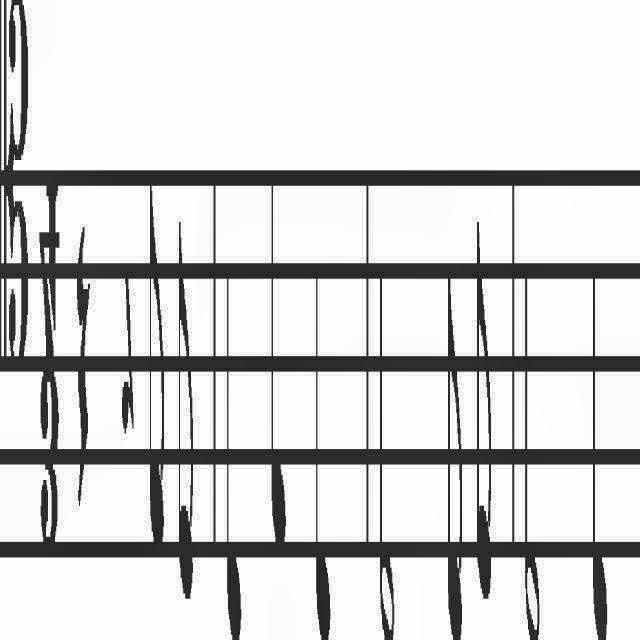Eighth-note: (142, 128, 168, 596), (471, 222, 497, 640), (174, 181, 196, 624), (441, 279, 466, 640)
Eighth-rest: (115, 231, 136, 485)
Half-note: (520, 222, 544, 640), (375, 248, 397, 640)
Quarter-note: (588, 227, 611, 640), (268, 179, 290, 577), (311, 258, 333, 640), (221, 243, 242, 640)
Quarter-rest: (71, 212, 93, 534)
